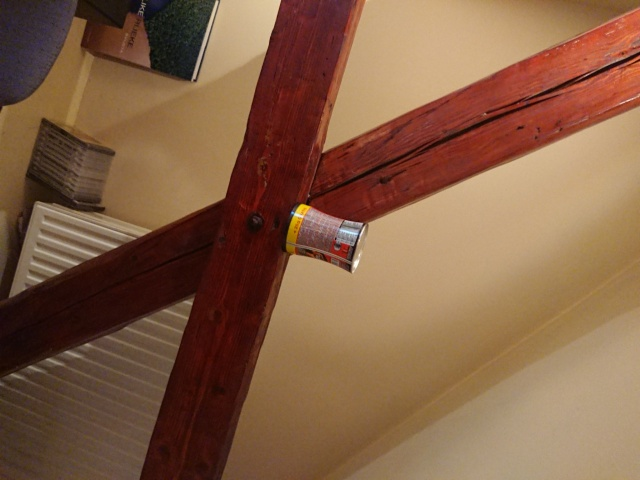Nescafe Classic 225g: (278, 199, 371, 276)
